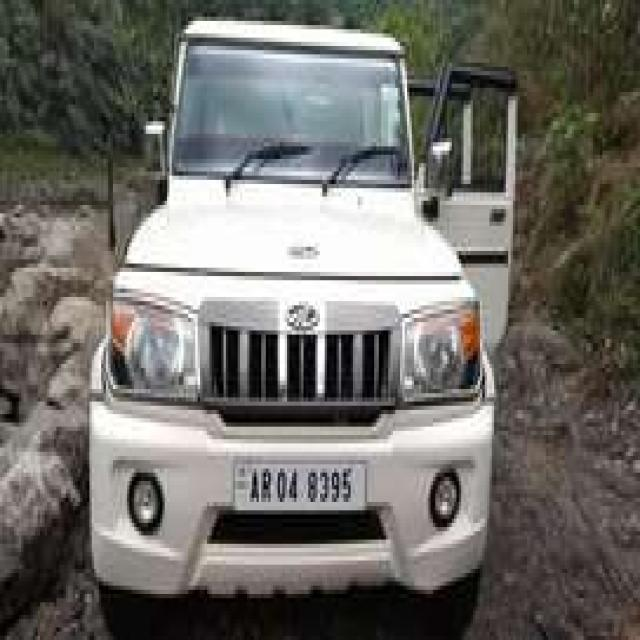Plate: (232, 457, 366, 507)
